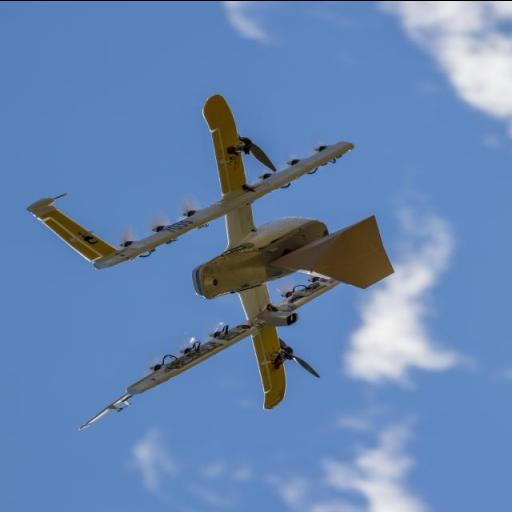uav: (22, 90, 388, 442)
